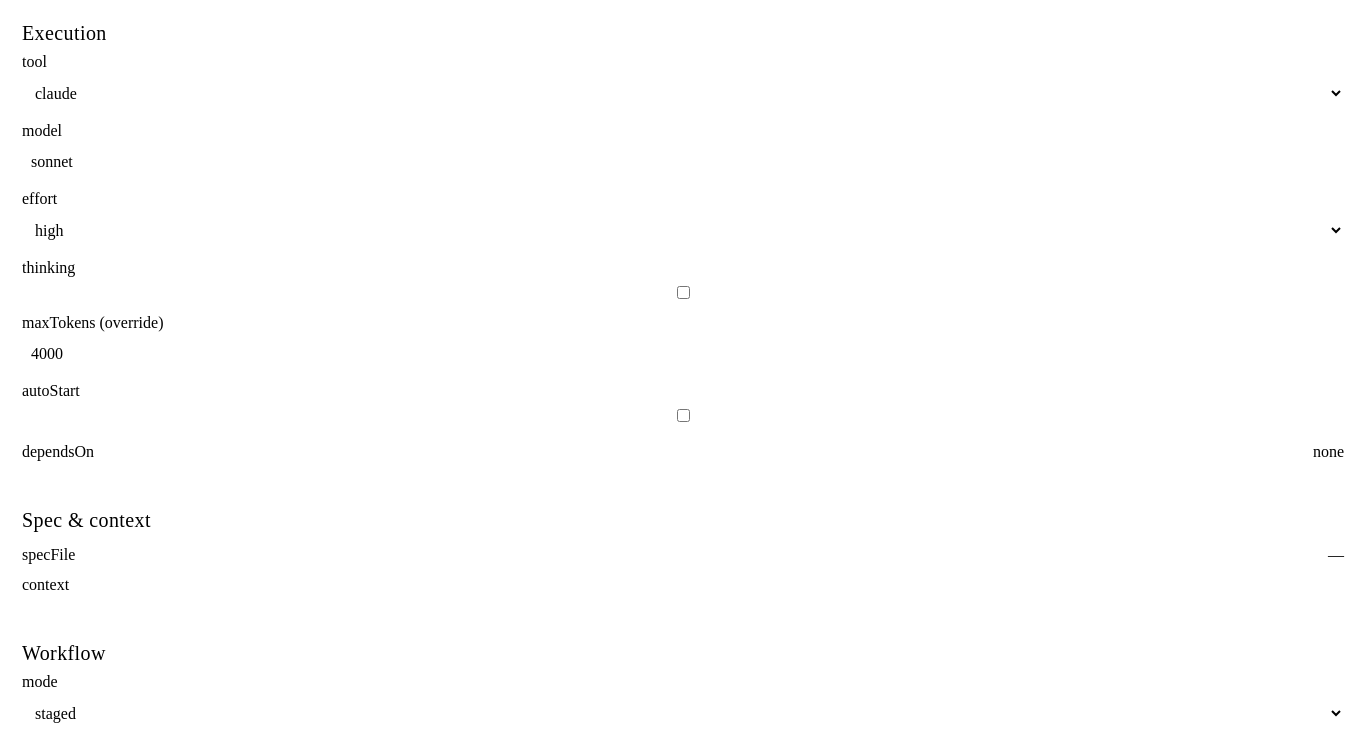
Test: FeatureConfigDetail execution card › saves only changed execution values and adopts the refreshed saved baseline
The width and height of the screenshot is (1366, 743).
Select "high" in the dropdown labelled "effort" at (683, 230), box [22,214,1344,247]
Select "high" in the dropdown labelled "effort" at (683, 230), box [22,214,1344,247]
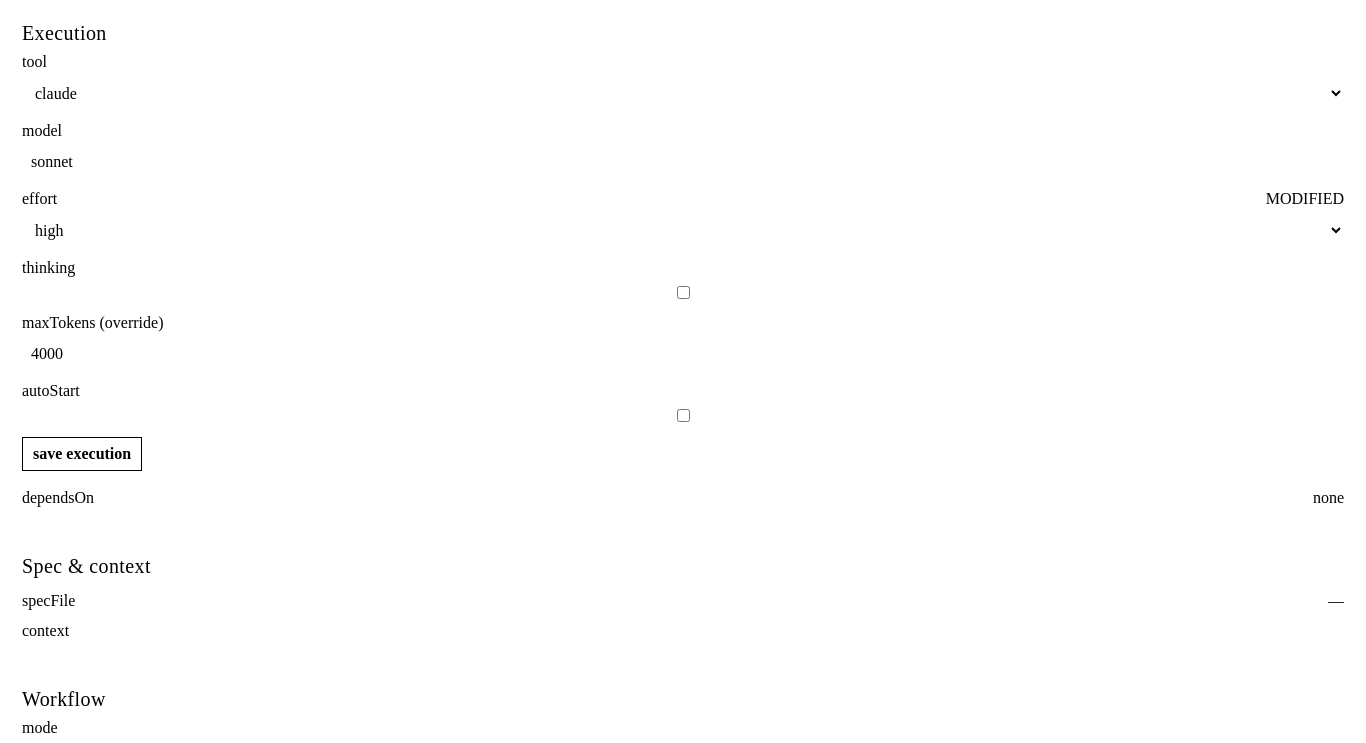
Check: the text "modified" is shown, box [1266,190,1344,208]
Click the button "save execution".
click(82, 454)  # box [22,437,142,471]
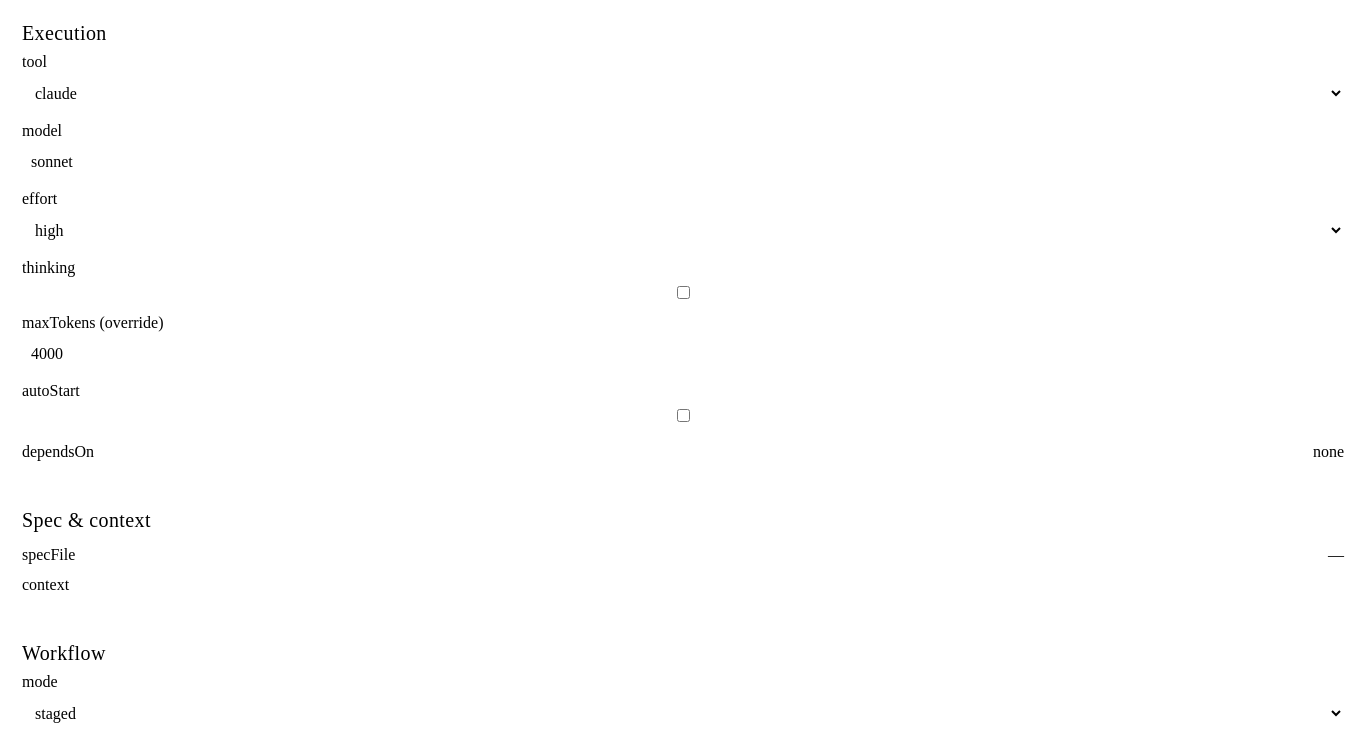
Check: the text "modified" is gone
